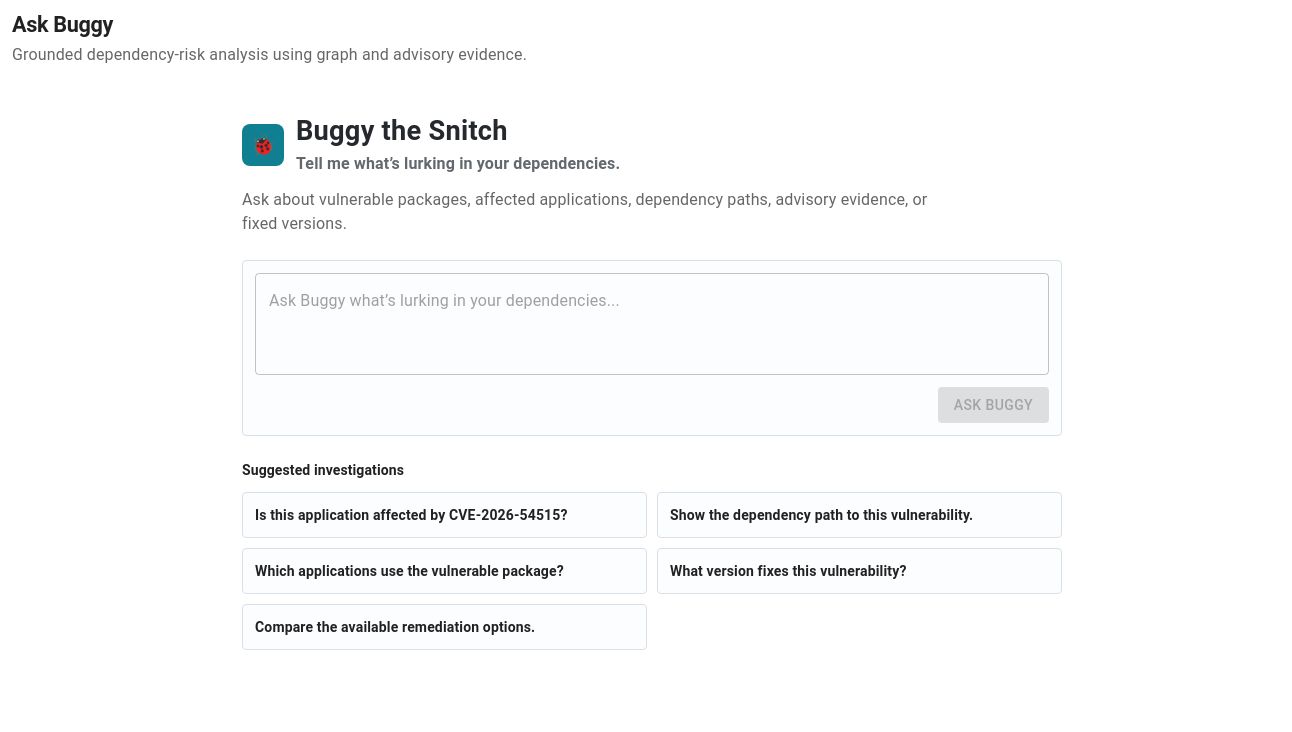
it: AssistantView › shows API failures without rendering an answer
Type "What is affected?" into the text box named "Dependency risk investigation prompt" at (652, 324), box [269,289,1035,358]
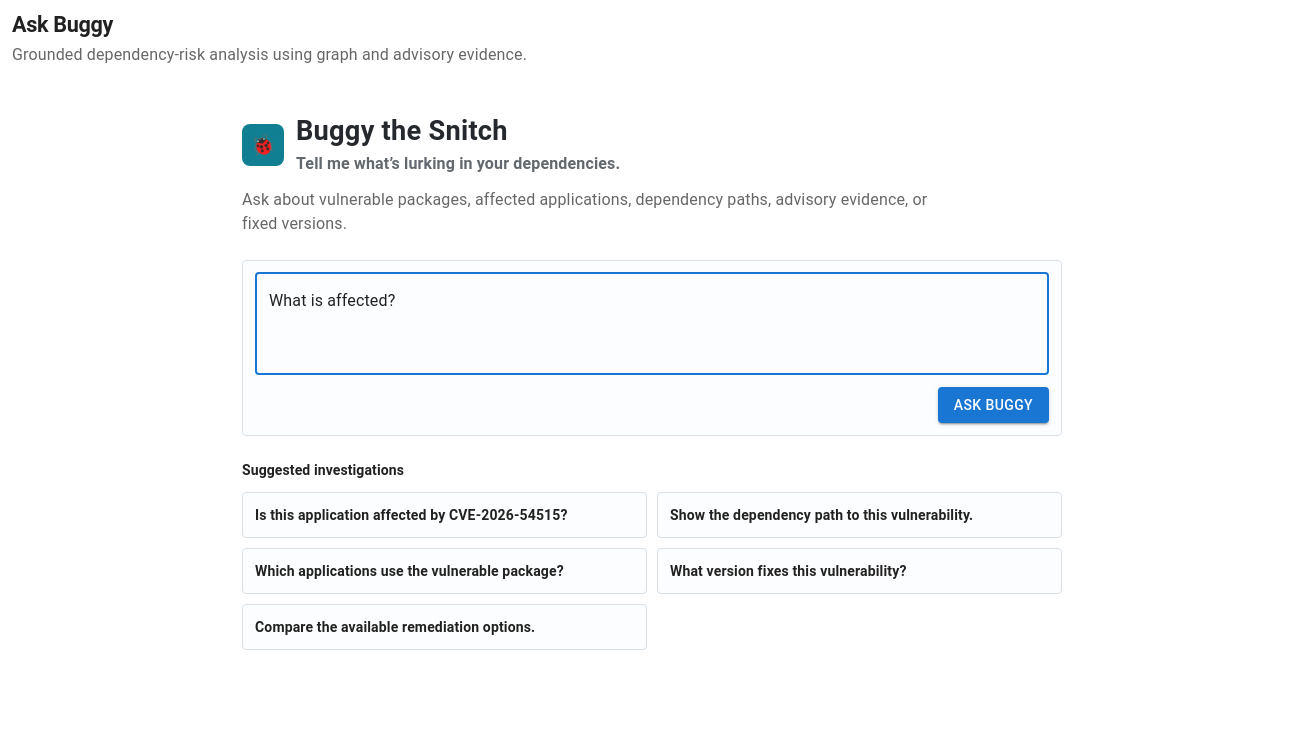
Click the button "Ask Buggy" at (993, 405), box [938,386,1049,423]
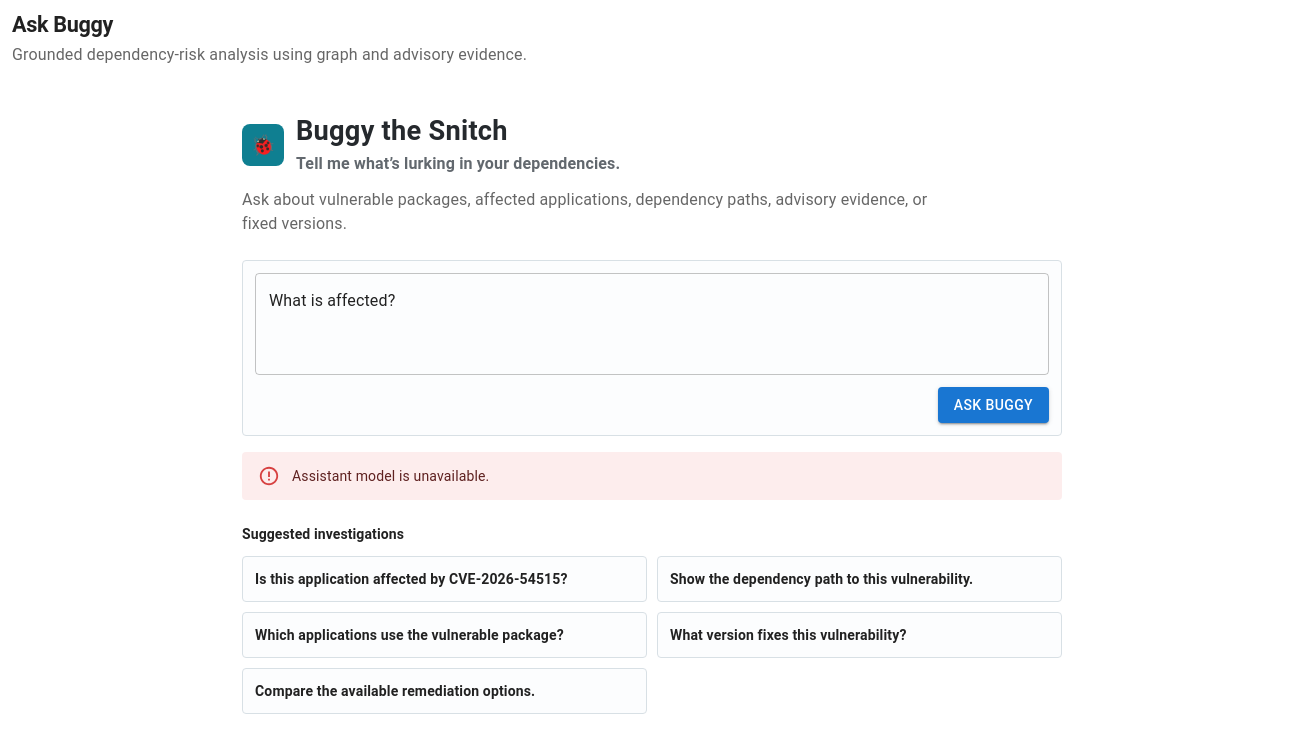
Result: the message reads "Assistant model is unavailable." at [292,468,490,484]
